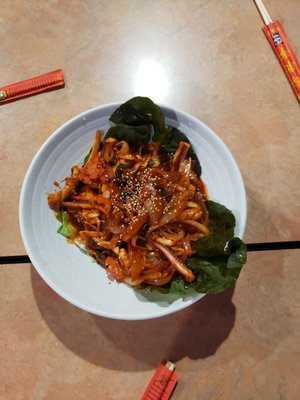burger: (253, 0, 300, 110)
